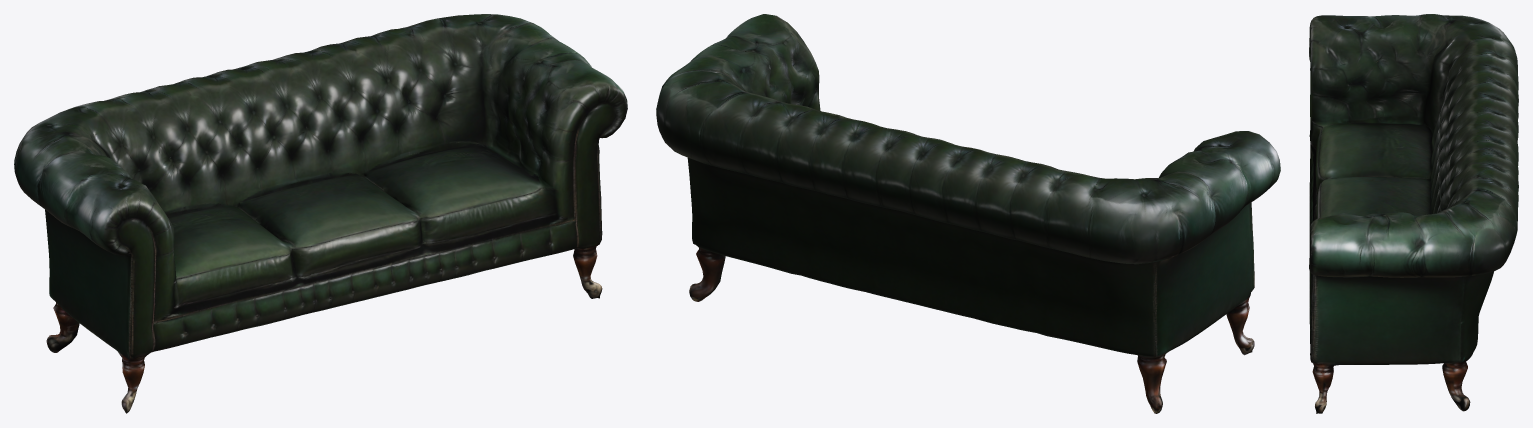
The model's file is A_dark_green_three_se_0613161622_texture.fbx.
The picture shows the model from 3 angles, left to right: view 1: azimuth 30°, elevation 25°; view 2: azimuth 150°, elevation 25°; view 3: azimuth 270°, elevation 25°; orthographic projection. The views are drawn at different scales.
Visible parts, largest first — view 1: Mesh1_Mesh1.044; view 2: Mesh1_Mesh1.044; view 3: Mesh1_Mesh1.044.
Boxes of the visible parts, x1=… form: Mesh1_Mesh1.044: x1=14, y1=14, x2=627, y2=413; Mesh1_Mesh1.044: x1=656, y1=14, x2=1280, y2=413; Mesh1_Mesh1.044: x1=1309, y1=14, x2=1518, y2=413.
Bounding box in the file's own units: 200 × 81.09 × 77.29.
Materials: 1 (1 with a texture image).
